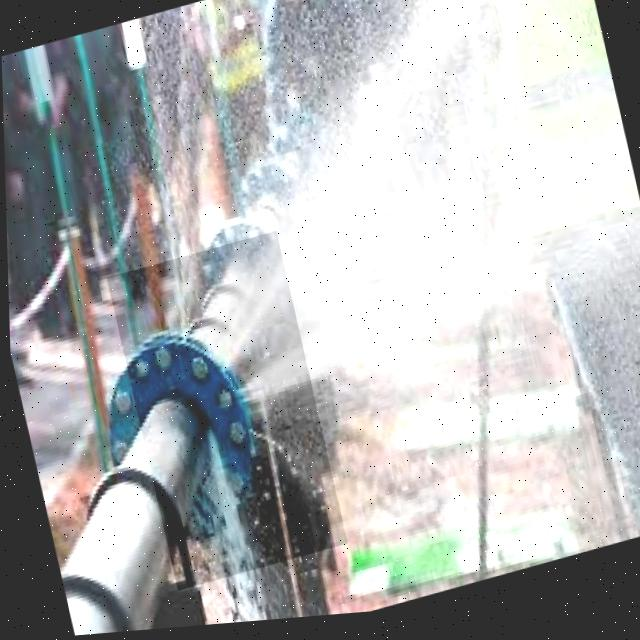corrosion: (129, 105, 504, 507)
